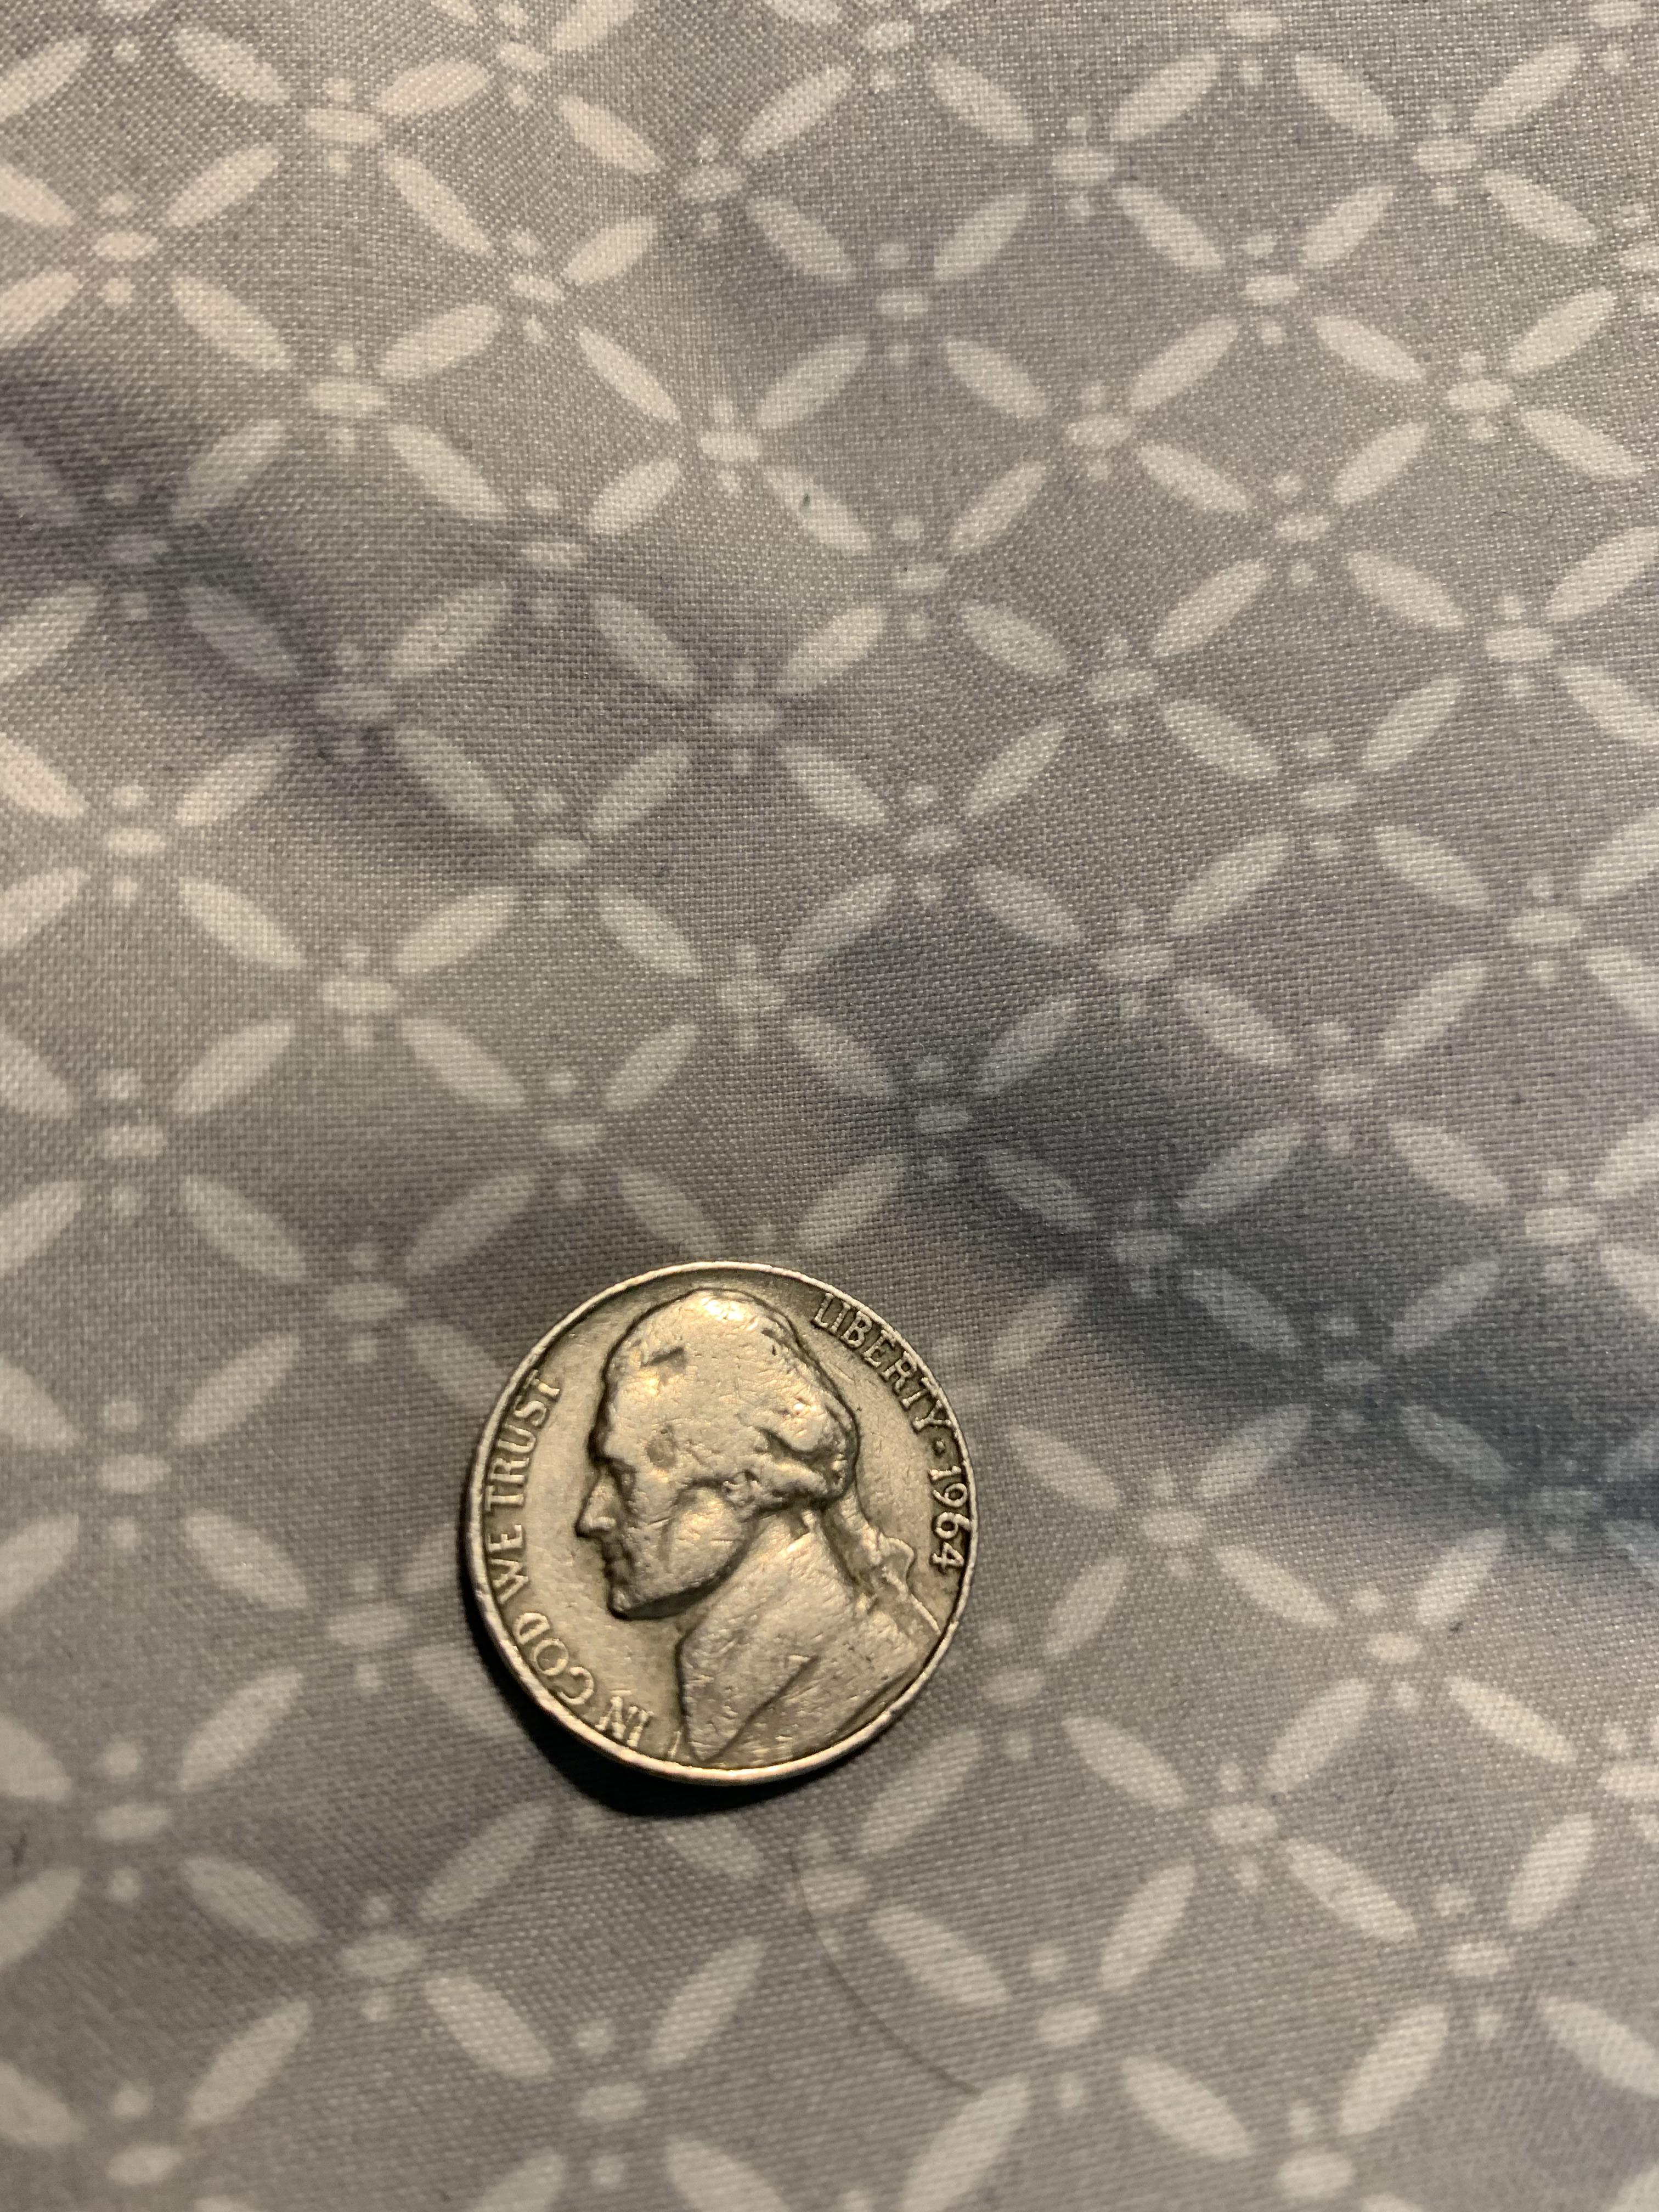Nickel: (425, 1233, 1012, 1817)
